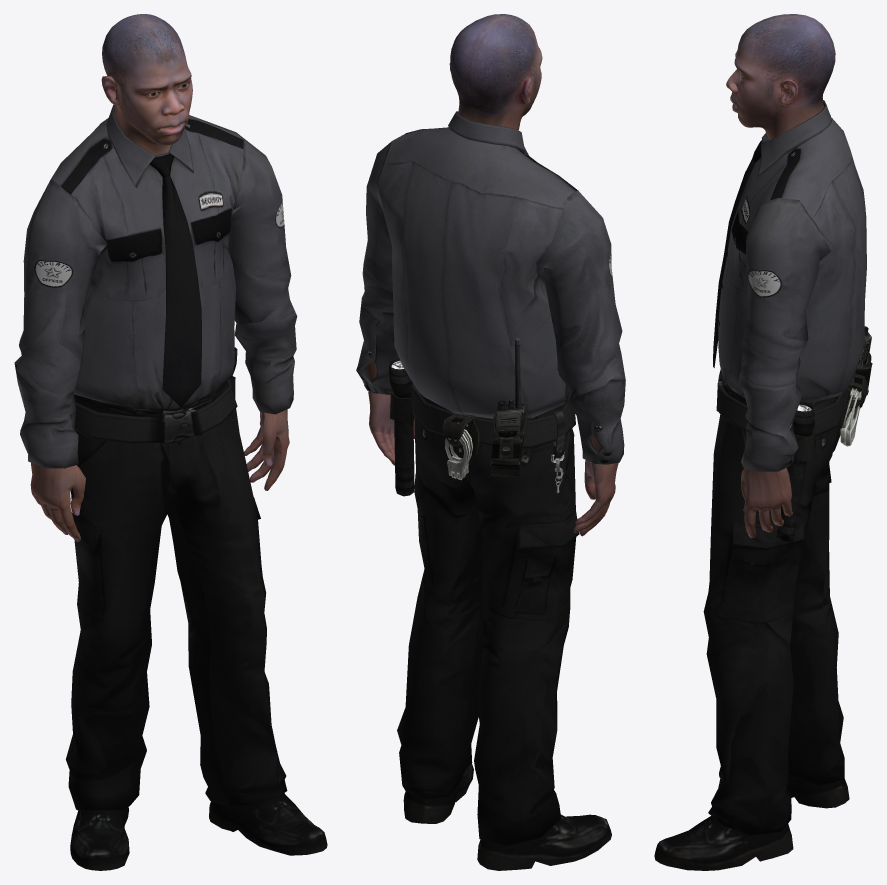
File: guard.obj
3 renders of one model, left to right at view 1: azimuth 30°, elevation 25°; view 2: azimuth 150°, elevation 25°; view 3: azimuth 270°, elevation 25°, orthographic. The views are drawn at different scales.
Parts seen in each view (by area): view 1: Object_11, Object_7; view 2: Object_11, Object_7, Object_9; view 3: Object_11, Object_7, Object_9.
Boxes of the visible parts, x1,y1,x2,y2 form: Object_11: [14, 104, 327, 870]; Object_7: [101, 14, 192, 155]; Object_11: [356, 111, 625, 870]; Object_7: [449, 14, 542, 129]; Object_9: [389, 338, 565, 496]; Object_11: [654, 100, 866, 870]; Object_7: [726, 14, 835, 139]; Object_9: [776, 326, 872, 541].
Size of the model in its own units: 0.5667 by 1.66 by 0.4117.
